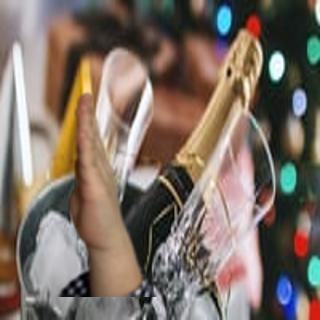RIGHT: (69, 89, 131, 251)
